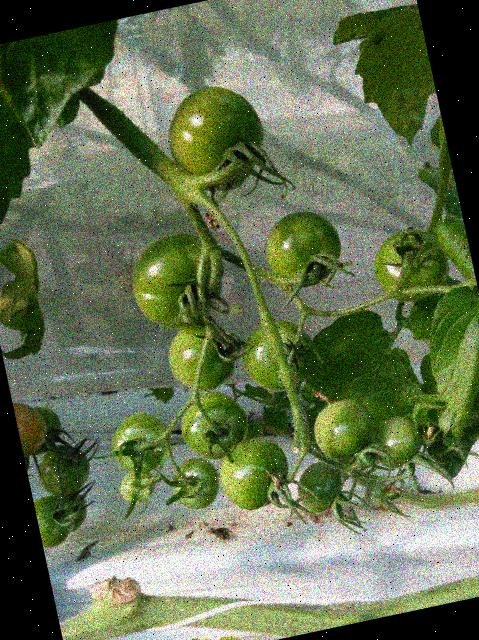l_green: (158, 75, 274, 201), (123, 224, 236, 340), (257, 203, 350, 294), (366, 221, 456, 309), (212, 430, 295, 516), (237, 313, 320, 397), (161, 316, 242, 397), (174, 384, 255, 465), (104, 407, 176, 480), (308, 392, 381, 463), (33, 438, 96, 500), (368, 411, 427, 472), (166, 453, 224, 514), (292, 456, 350, 515), (33, 491, 78, 549), (25, 401, 66, 456), (116, 466, 160, 506), (61, 489, 91, 533), (362, 481, 388, 508)
l_half_ripened: (12, 395, 53, 460)
